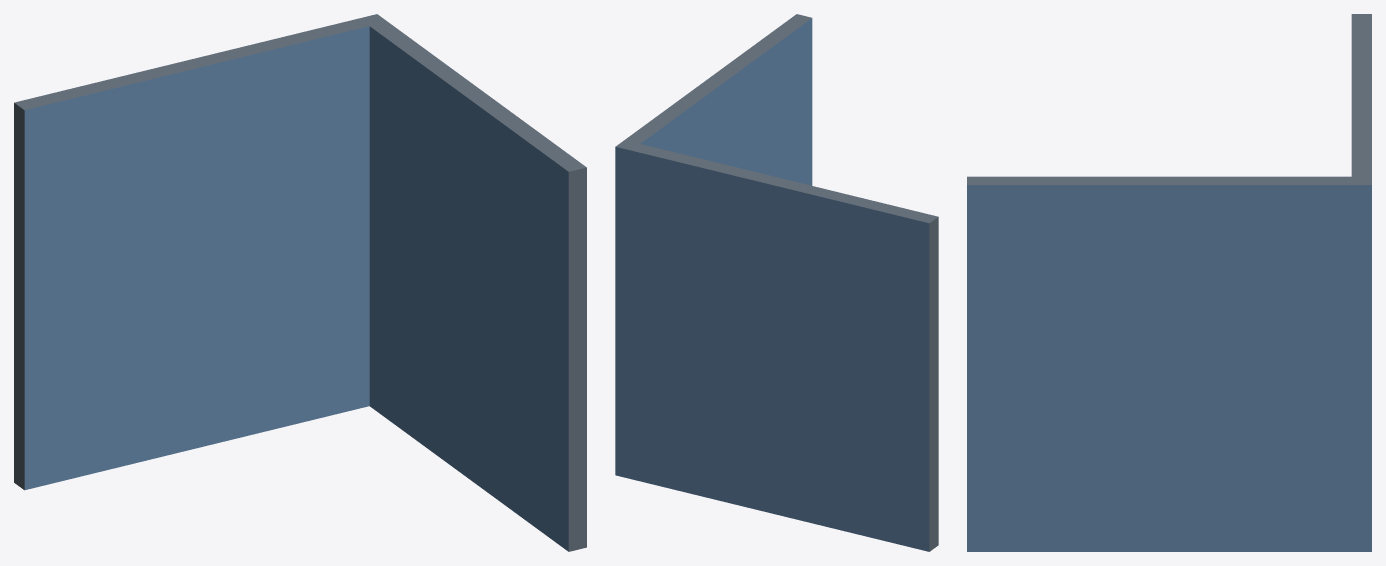
File: Wal_2_1.fbx
3 views of the same model, side by side, from view 1: azimuth 30°, elevation 25°; view 2: azimuth 150°, elevation 25°; view 3: azimuth 270°, elevation 25° (orthographic). The views are drawn at different scales.
Parts seen in each view (by area): view 1: polySurface1878; view 2: polySurface1878; view 3: polySurface1878.
Part boxes in pixels (left/top/right/bottom): polySurface1878: left=14, top=14, right=586, bottom=551; polySurface1878: left=615, top=14, right=938, bottom=551; polySurface1878: left=967, top=14, right=1371, bottom=551.
Bounding box in the file's own units: 4 × 4 × 4.
Materials: 1 (1 with a texture image).
